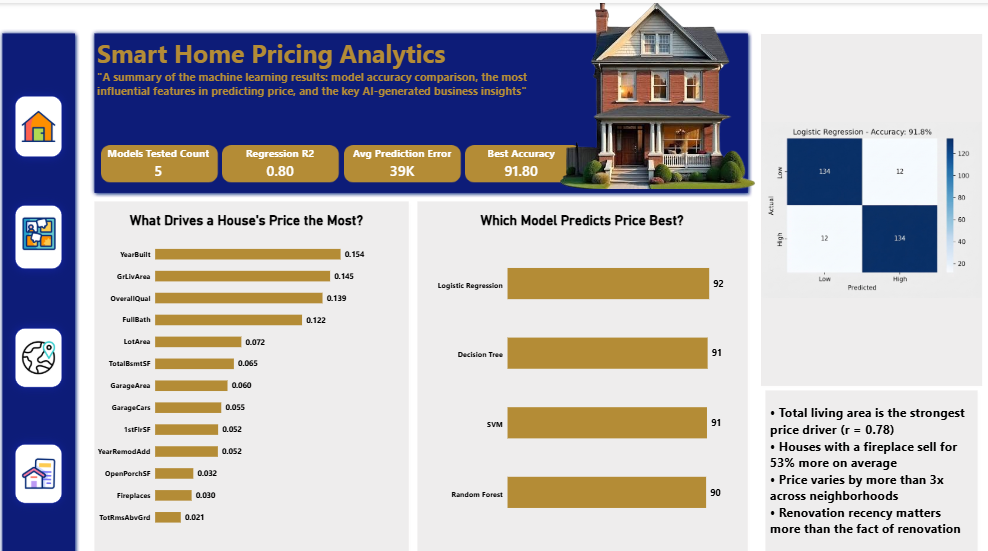

The dashboard page shown, as its layout file describes it:
{"tool":"powerbi","page":{"name":"Page 4","canvas":[1920,1080],"ordinal":4},"visuals":[{"type":"shape","box":[178,50,1282,326],"z":0},{"type":"image","box":[33,179.6,90.7,117.7],"z":0,"group":"g2"},{"type":"shape","box":[177.5,375.7,625.5,704],"z":1000},{"type":"image","box":[33.2,390.8,90.7,124.2],"z":1000,"group":"g2"},{"type":"shape","box":[803.1,375.7,656.5,704],"z":2000},{"type":"image","box":[33.2,628,90.7,114.8],"z":2000,"group":"g2"},{"type":"image","box":[33,853.4,90.7,114.8],"z":2000,"group":"g1"},{"type":"textbox","box":[192,64,866,184],"z":3000},{"type":"shape","box":[0,50,158,1030],"z":4000},{"type":"group","id":"g1","title":"Group 2","box":[33,179.6,90.8,788.6],"z":5000},{"type":"image","box":[175.5,247.7,272.5,128],"z":6000},{"type":"image","box":[410.8,247.7,272.5,128],"z":7000},{"type":"image","box":[881.5,247.7,272.5,128],"z":8000},{"type":"image","box":[646.2,247.7,272.5,128],"z":9000},{"type":"image","box":[1017.8,0,508,360],"z":10000},{"type":"cardVisual","fields":{"Data":["Fact_Properties.Best Accuracy"]},"box":[893.9,262.2,237.4,97],"z":11000},{"type":"group","id":"g2","title":"Group 1","box":[33,179.6,90.8,563.2],"z":12000,"group":"g1"},{"type":"cardVisual","fields":{"Data":["Fact_Properties.Regression R2"]},"box":[427.4,262.2,237.4,97],"z":12000},{"type":"cardVisual","fields":{"Data":["Fact_Properties.Avg Prediction Error"]},"box":[664.8,262.2,237.4,97],"z":13000},{"type":"cardVisual","fields":{"Data":["Fact_Properties.Models Tested Count"]},"box":[192,262.2,237.4,97],"z":14000},{"type":"shape","box":[1459.6,45.4,460.4,516.1],"z":15000},{"type":"image","box":[1460.6,565.5,459.2,514.5],"z":16000},{"type":"barChart","title":"What Drives a House''s Price the Most?","fields":{"Category":["Feature_Importance.Feature_Name"],"Y":["Sum(Feature_Importance.Importance)"]},"box":[176.5,391.2,610.2,648.4],"z":17000},{"type":"barChart","title":"Which Model Predicts Price Best?","fields":{"Category":["Model_Accuracy.Model_Name"],"Y":["Sum(Model_Accuracy.Accuracy)"]},"box":[833.4,391.2,593.1,663.3],"z":18000},{"type":"image","box":[1477.6,51,427.3,489],"z":19000}]}

Visuals, with their boxes in screenshot pixels (x1, y1, x2, y2), scaled from the page's 1920x1080 canvas onto the 988x551 screenshot:
shape: rect(92, 26, 751, 192)
image: rect(17, 92, 64, 152)
shape: rect(91, 192, 413, 550)
image: rect(17, 199, 64, 263)
shape: rect(413, 192, 751, 550)
image: rect(17, 320, 64, 379)
image: rect(17, 435, 64, 494)
textbox: rect(99, 33, 544, 127)
shape: rect(0, 26, 81, 550)
"Group 2" group: rect(17, 92, 64, 494)
image: rect(90, 126, 231, 192)
image: rect(211, 126, 352, 192)
image: rect(454, 126, 594, 192)
image: rect(333, 126, 473, 192)
image: rect(524, 0, 785, 184)
cardVisual - Fact_Properties.Best Accuracy: rect(460, 134, 582, 183)
"Group 1" group: rect(17, 92, 64, 379)
cardVisual - Fact_Properties.Regression R2: rect(220, 134, 342, 183)
cardVisual - Fact_Properties.Avg Prediction Error: rect(342, 134, 464, 183)
cardVisual - Fact_Properties.Models Tested Count: rect(99, 134, 221, 183)
shape: rect(751, 23, 987, 286)
image: rect(752, 289, 987, 550)
"What Drives a House''s Price the Most?" barChart: rect(91, 200, 405, 530)
"Which Model Predicts Price Best?" barChart: rect(429, 200, 734, 538)
image: rect(760, 26, 980, 276)
